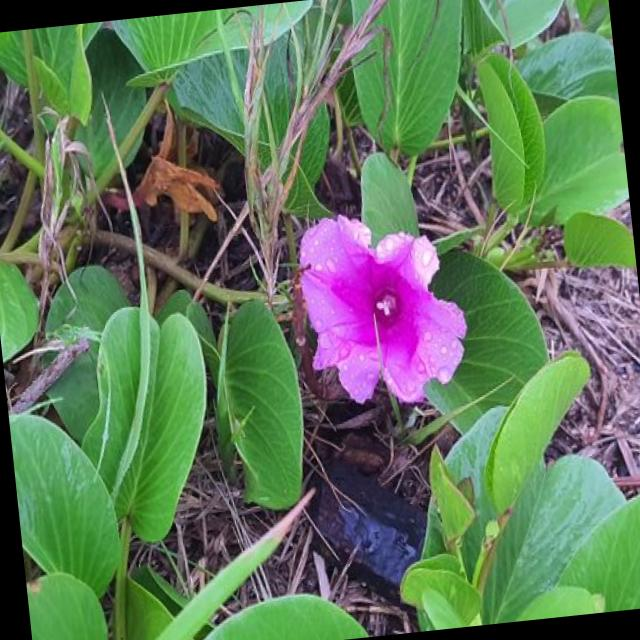ipomoea: (287, 198, 476, 418)
